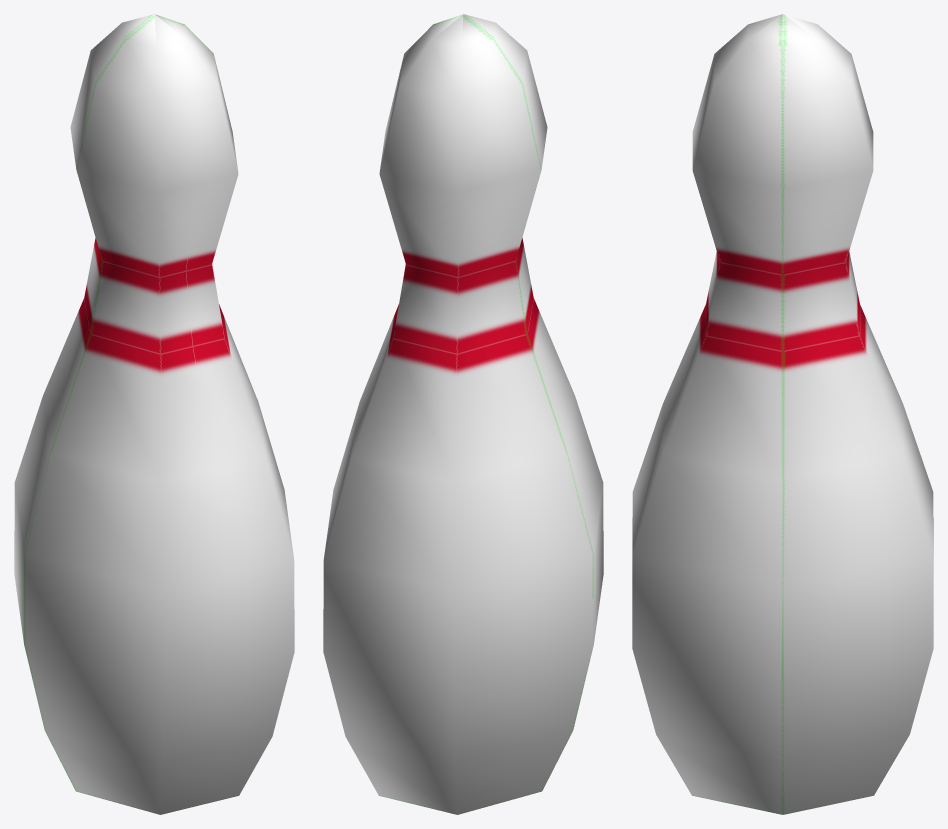
File: pin_default_02.FBX
3 views of the same model, side by side, from view 1: azimuth 30°, elevation 25°; view 2: azimuth 150°, elevation 25°; view 3: azimuth 270°, elevation 25° (orthographic).
Parts seen in each view (by area): view 1: Line001; view 2: Line001; view 3: Line001.
Part boxes in pixels (box(x1,y1,x2,y2)): Line001: box(14, 14, 294, 814); Line001: box(323, 14, 603, 814); Line001: box(632, 14, 933, 814).
Bounding box in the file's own units: 28.7 × 79.76 × 28.6.
Materials: 1 (1 with a texture image).
